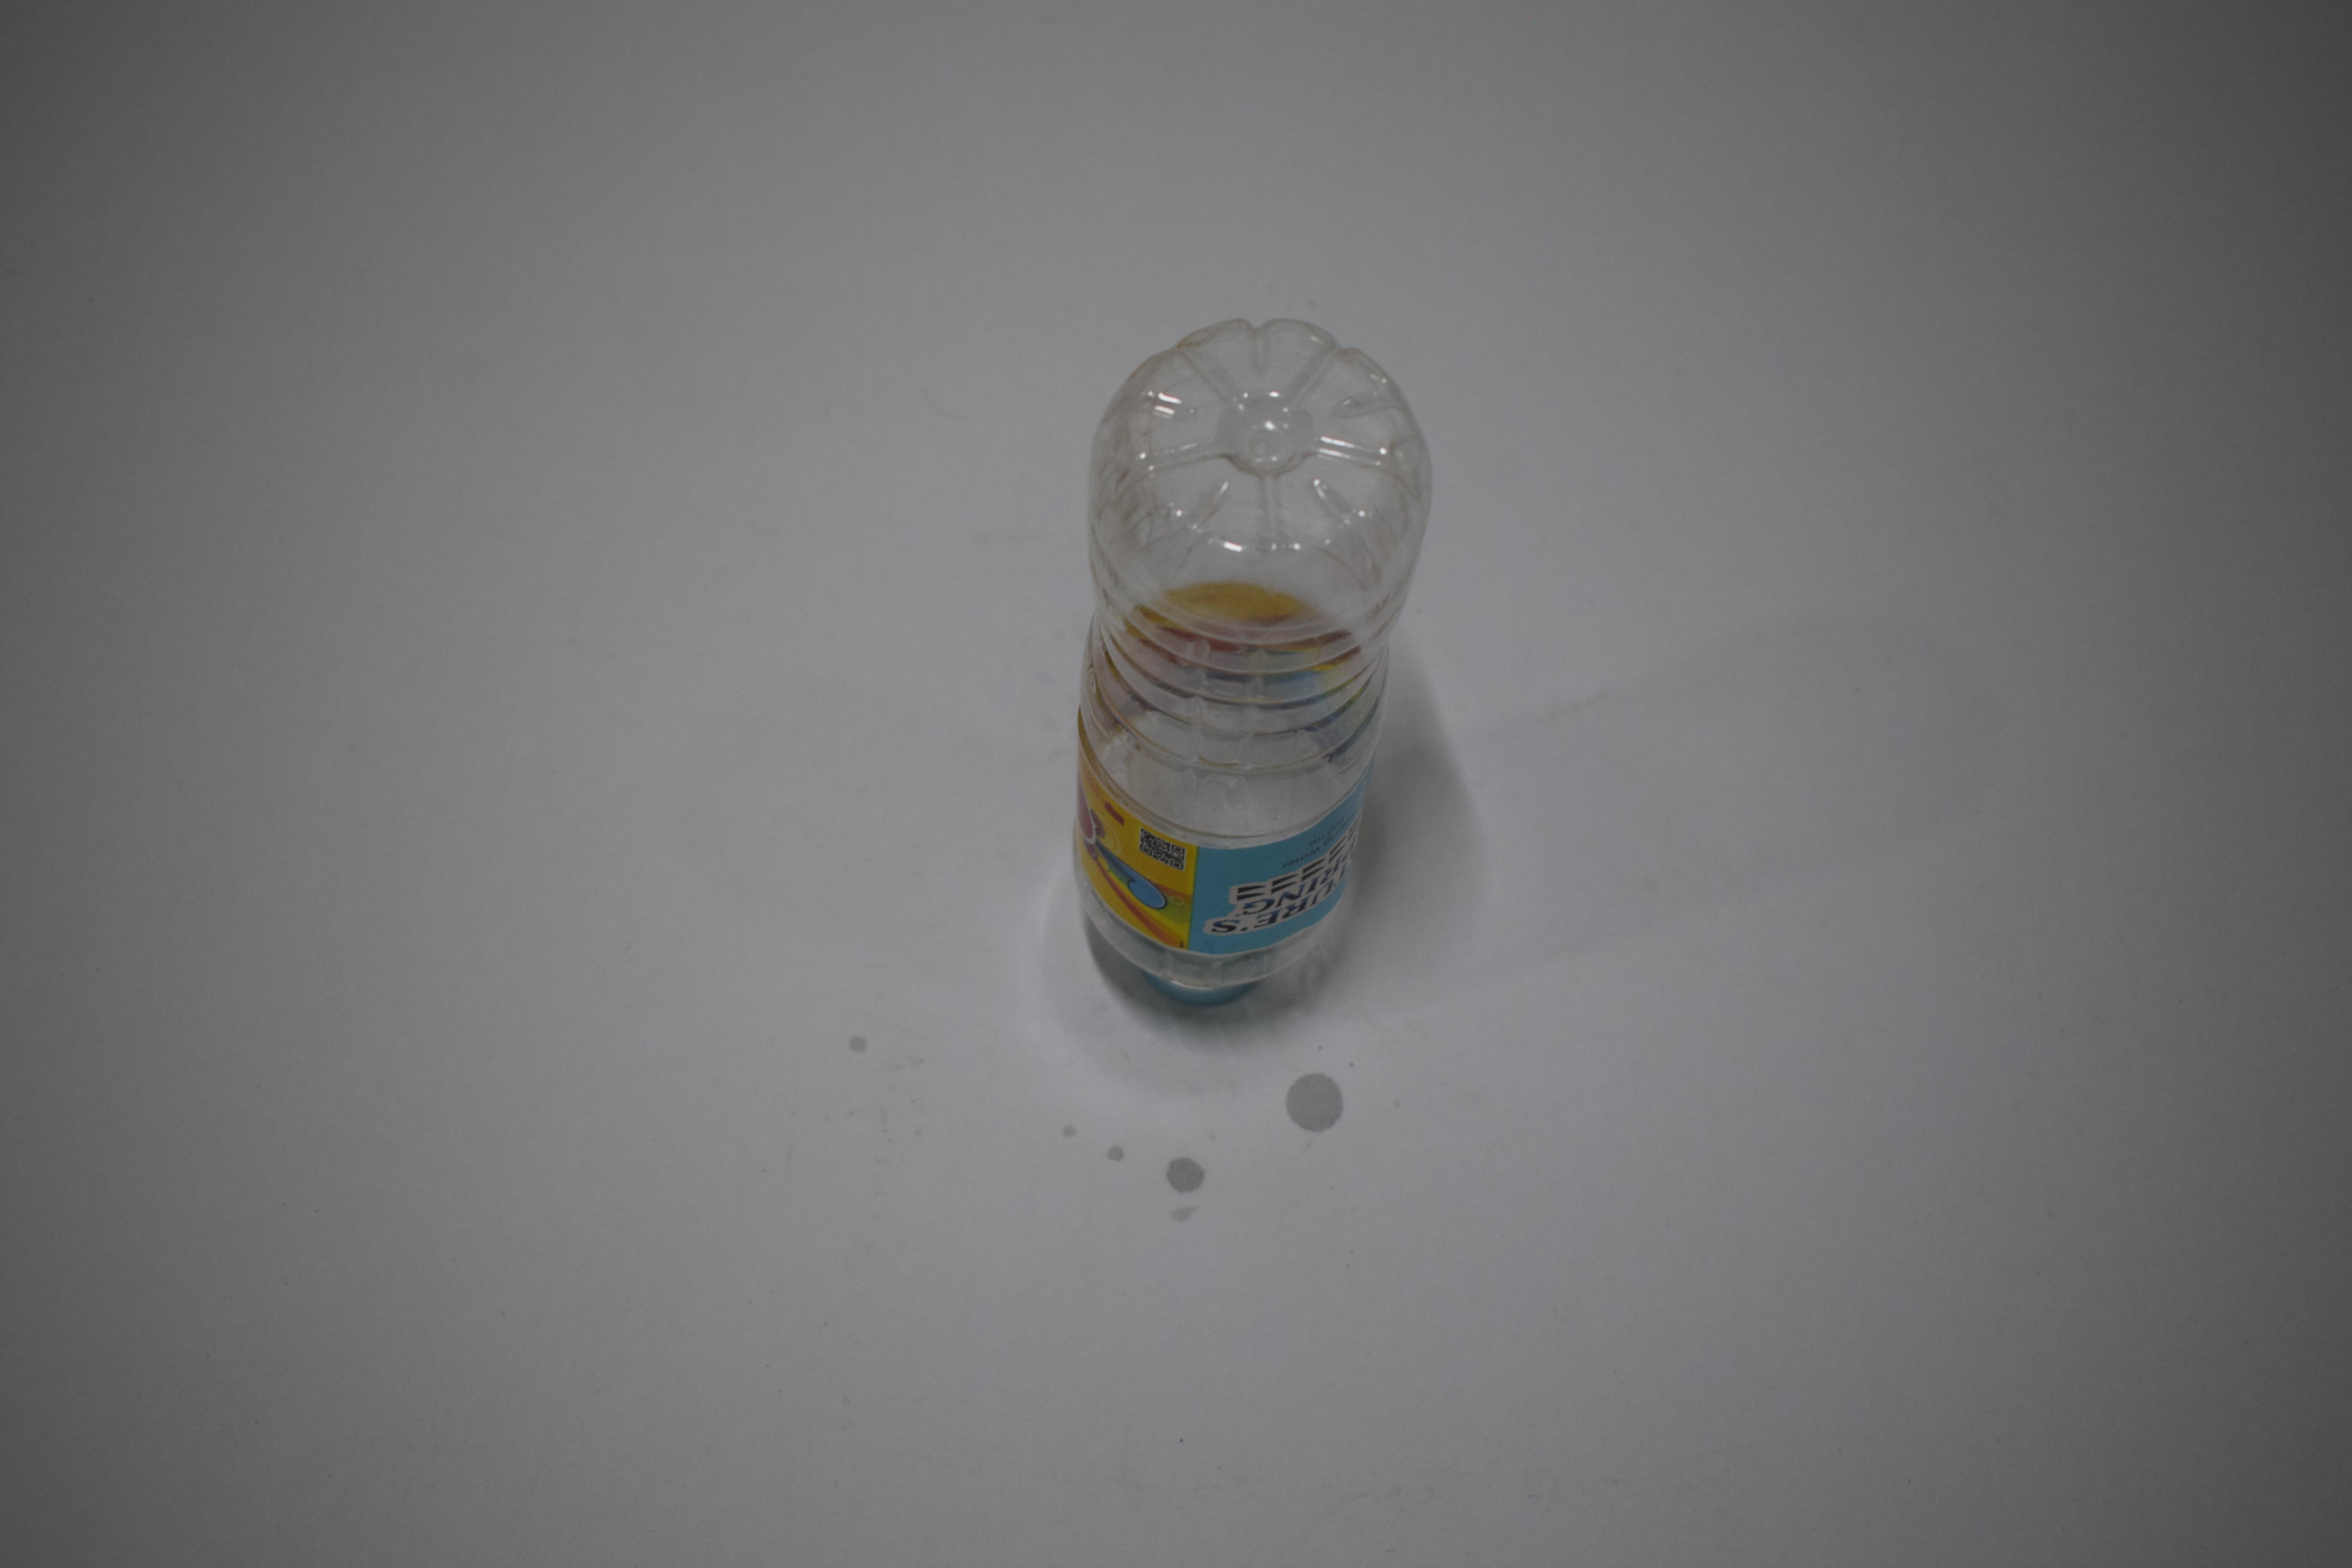bottle: (0, 297, 266, 1022)
